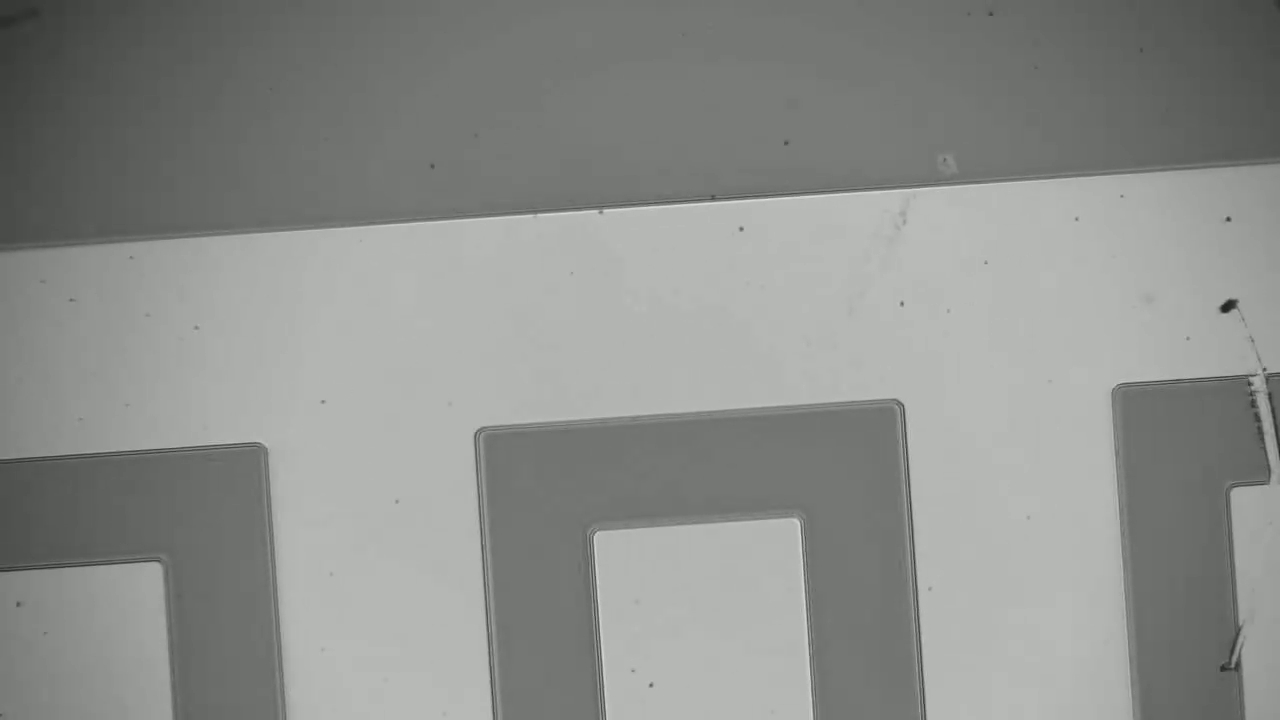Short_circuit: (1238, 339, 1280, 516)
